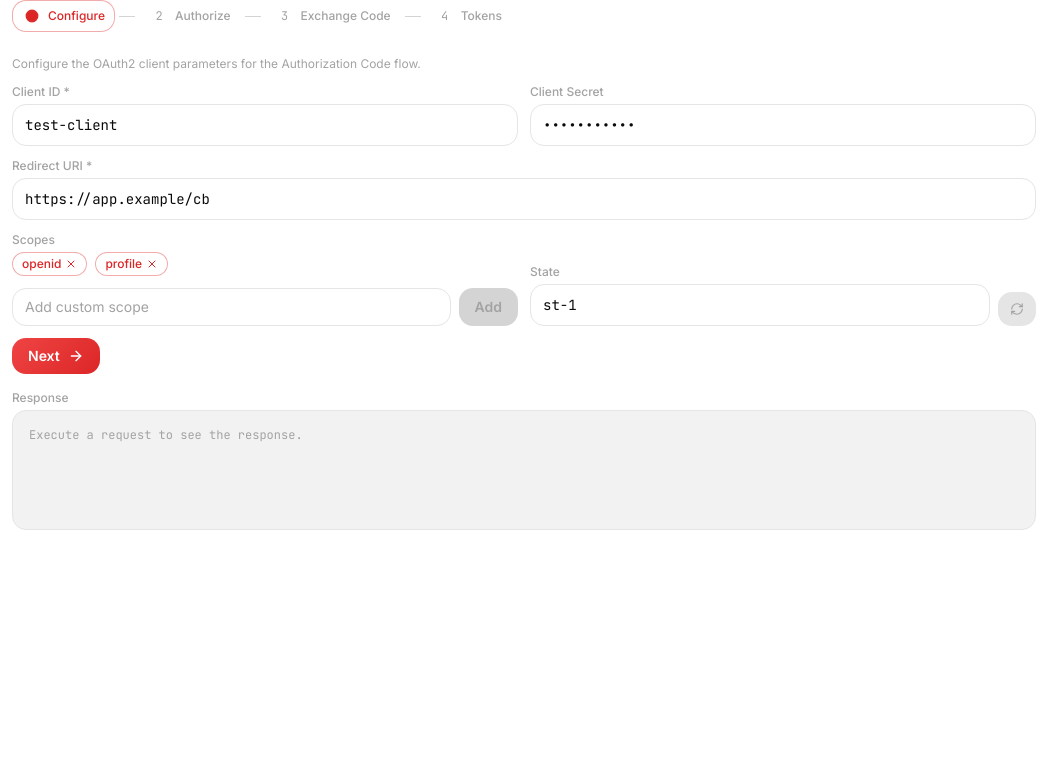
Scenario: AuthorizationCodeFlow › renders the configure step and advances to authorize
expect the text "Client ID *" is shown: met, box [12,84,70,99]
expect the text "Redirect URI *" is shown: met, box [12,158,92,173]
Click the button titled "Regenerate state" at point(1017, 309), box [998,292,1036,326]
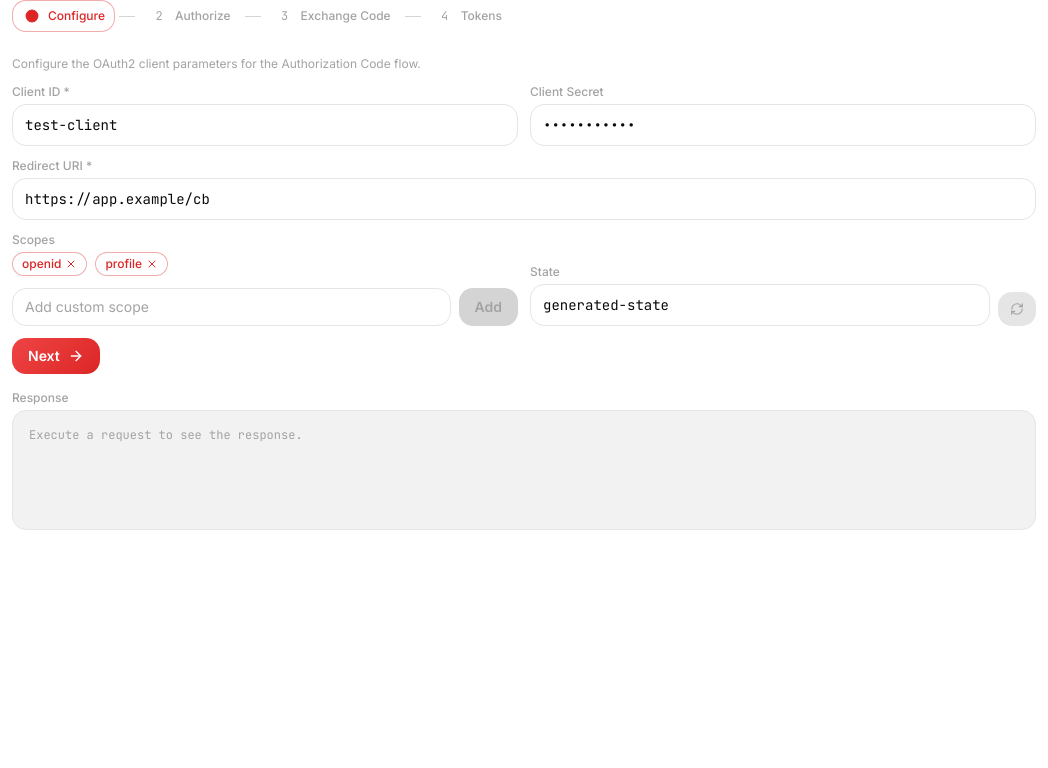
Click the button with test id "playground-config-next" at point(56, 356), box [12,338,100,374]
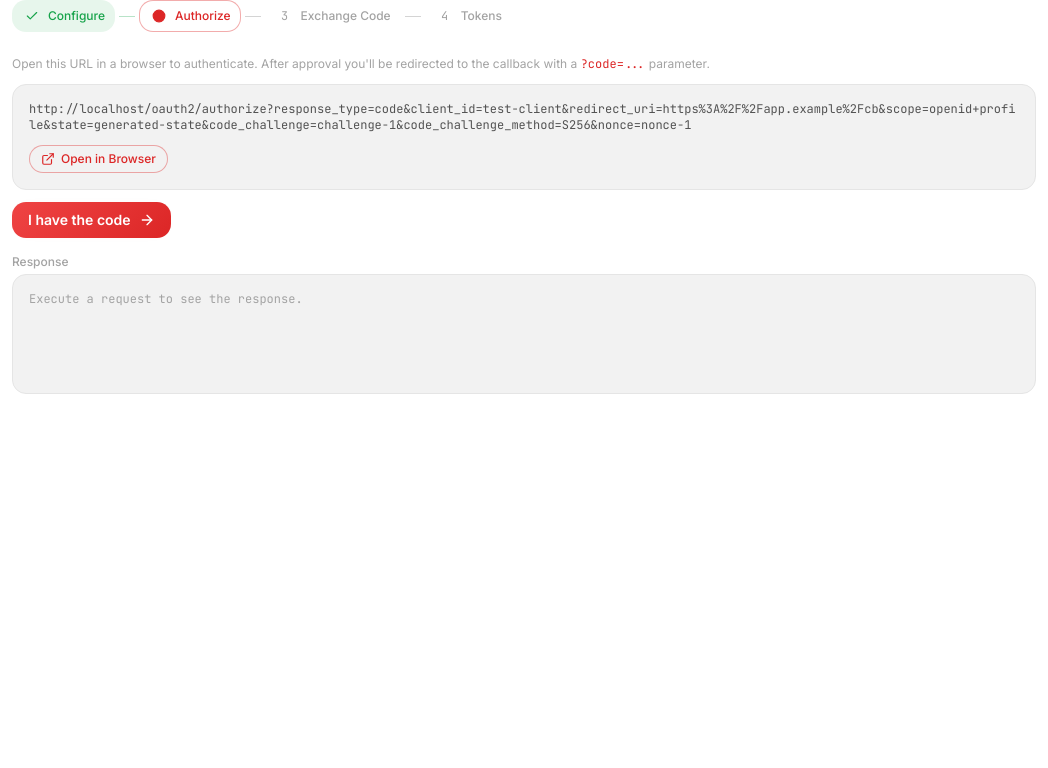
expect the button "I have the code" is shown: met, box [12,202,171,238]
